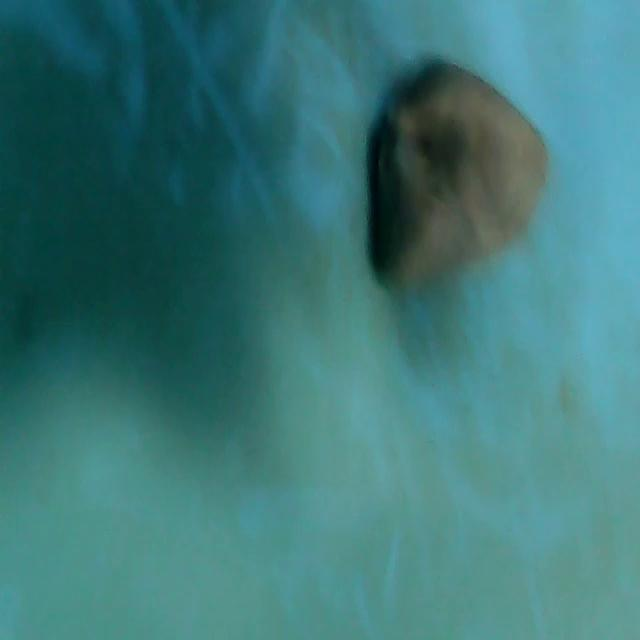rock: (360, 56, 564, 310)
